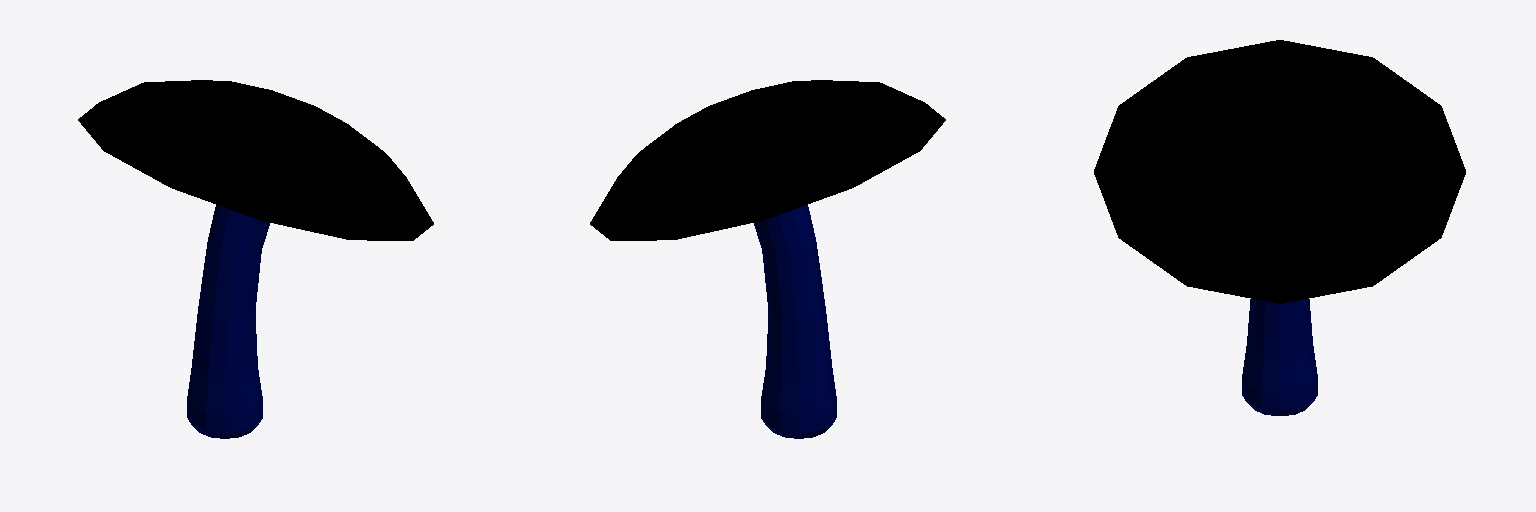
File: glow_mush.obj
3 views of the same model, side by side, from view 1: azimuth 30°, elevation 25°; view 2: azimuth 150°, elevation 25°; view 3: azimuth 270°, elevation 25° (orthographic).
Visible parts, largest first — view 1: glow_mushroom shroom_cap, shroom_stem glow_mushroom; view 2: glow_mushroom shroom_cap, shroom_stem glow_mushroom; view 3: glow_mushroom shroom_cap, shroom_stem glow_mushroom.
Boxes of the visible parts, box(x1,y1,x2,y2) form: glow_mushroom shroom_cap: box(78, 80, 433, 240); shroom_stem glow_mushroom: box(187, 205, 269, 438); glow_mushroom shroom_cap: box(590, 80, 945, 240); shroom_stem glow_mushroom: box(754, 205, 836, 438); glow_mushroom shroom_cap: box(1094, 40, 1465, 303); shroom_stem glow_mushroom: box(1242, 299, 1317, 415).
Size of the model in its own units: 4.52 by 4.7 by 4.8.